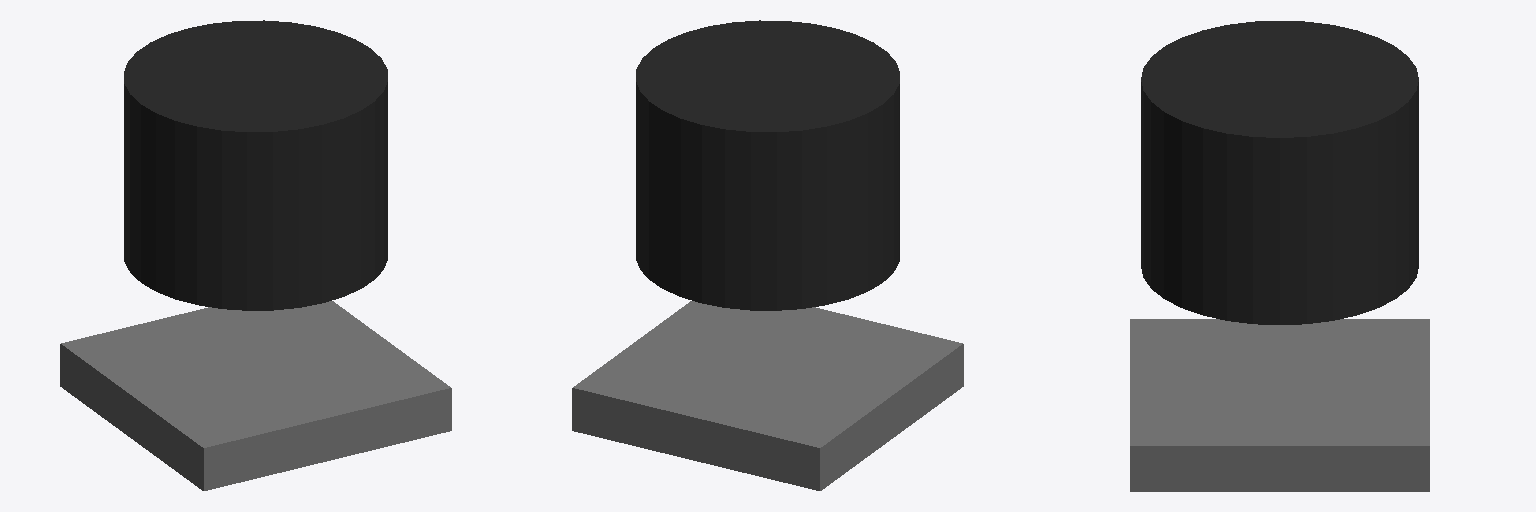
The robot description file, URDF, robot "rplidar_c1":
<?xml version="1.0"?>
<robot name="rplidar_c1">
  <!-- 
    RPlidar C1 URDF Model
    
    Specifications:
    - Dimensions: 55.6 x 55.6 x 41.3 mm
    - Weight: 110g (0.11 kg)
    - Scanning Range: 0.05-12m
    - Scanning Angle: 360°
    - Scanning Frequency: 10Hz
    - Angular Resolution: 0.72°
    - Power: 5V, 230mA
    - Interface: UART/USB
  -->

  <!-- RPlidar Base Link (센서 본체) -->
  <link name="rplidar_c1_base">
    <visual>
      <!-- 원통형 센서 본체 (정면) -->
      <geometry>
        <cylinder radius="0.0278" length="0.0413"/>
      </geometry>
      <origin xyz="0 0 0" rpy="0 0 0"/>
      <material name="black">
        <color rgba="0.2 0.2 0.2 1.0"/>
      </material>
    </visual>
    
    <collision>
      <geometry>
        <cylinder radius="0.0278" length="0.0413"/>
      </geometry>
      <origin xyz="0 0 0" rpy="0 0 0"/>
    </collision>
    
    <inertial>
      <!-- 질량: 110g = 0.11 kg -->
      <mass value="0.11"/>
      <!-- 원통형 관성 모멘트 계산: I = (1/12)*m*(3*r^2 + h^2) for cylinder -->
      <!-- r = 0.0278m, h = 0.0413m -->
      <!-- Ixx = Iyy = (1/12)*0.11*(3*0.0278^2 + 0.0413^2) ≈ 0.0001 kg⋅m² -->
      <!-- Izz = (1/2)*m*r^2 = 0.5*0.11*0.0278^2 ≈ 0.0000425 kg⋅m² -->
      <inertia ixx="0.0001" ixy="0.0" ixz="0.0" 
               iyy="0.0001" iyz="0.0" 
               izz="0.0000425"/>
      <origin xyz="0 0 0" rpy="0 0 0"/>
    </inertial>
  </link>

  <!-- RPlidar 마운팅 프레임 (로봇에 부착할 때 사용) -->
  <link name="rplidar_c1_frame">
    <visual>
      <!-- 마운팅 베이스 (선택사항) -->
      <geometry>
        <box size="0.06 0.06 0.01"/>
      </geometry>
      <origin xyz="0 0 -0.0306" rpy="0 0 0"/>
      <material name="gray">
        <color rgba="0.5 0.5 0.5 1.0"/>
      </material>
    </visual>
    
    <collision>
      <geometry>
        <box size="0.06 0.06 0.01"/>
      </geometry>
      <origin xyz="0 0 -0.0306" rpy="0 0 0"/>
    </collision>
    
    <inertial>
      <mass value="0.0"/>
      <inertia ixx="0.0" ixy="0.0" ixz="0.0" 
               iyy="0.0" iyz="0.0" 
               izz="0.0"/>
      <origin xyz="0 0 0" rpy="0 0 0"/>
    </inertial>
  </link>

  <!-- Fixed Joint: Frame to Base (고정 관절) -->
  <joint name="rplidar_c1_frame_to_base" type="fixed">
    <parent link="rplidar_c1_frame"/>
    <child link="rplidar_c1_base"/>
    <origin xyz="0 0 0.02065" rpy="0 0 0"/>
  </joint>

  <!-- RPlidar Laser Scanning Link (레이저 스캔 방사점) -->
  <link name="rplidar_c1_laser">
    <inertial>
      <mass value="0.0"/>
      <inertia ixx="0.0" ixy="0.0" ixz="0.0" 
               iyy="0.0" iyz="0.0" 
               izz="0.0"/>
    </inertial>
  </link>

  <!-- Fixed Joint: Base to Laser (센서 중심) -->
  <joint name="rplidar_c1_base_to_laser" type="fixed">
    <parent link="rplidar_c1_base"/>
    <child link="rplidar_c1_laser"/>
    <origin xyz="0 0 0" rpy="0 0 0"/>
  </joint>

  <!-- Rotation Link (회전축) -->
  <link name="rplidar_c1_rotating">
    <inertial>
      <mass value="0.0"/>
      <inertia ixx="0.0" ixy="0.0" ixz="0.0" 
               iyy="0.0" iyz="0.0" 
               izz="0.0"/>
    </inertial>
  </link>

  <!-- Rotating Joint (회전 관절) - 시뮬레이션 시에만 사용 -->
  <joint name="rplidar_c1_rotation" type="continuous">
    <parent link="rplidar_c1_base"/>
    <child link="rplidar_c1_rotating"/>
    <origin xyz="0 0 0" rpy="0 0 0"/>
    <axis xyz="0 0 1"/>
    <!-- 10Hz = 600 RPM -->
  </joint>

  <!-- Material Definitions -->
  <material name="black">
    <color rgba="0.2 0.2 0.2 1.0"/>
  </material>
  
  <material name="gray">
    <color rgba="0.5 0.5 0.5 1.0"/>
  </material>

</robot>

--- Render facts (derived) ---
3 views of the same robot in one strip: view 1: azimuth 30°, elevation 25°; view 2: azimuth 150°, elevation 25°; view 3: azimuth 270°, elevation 25° (orthographic).
Robot: rplidar_c1 — 4 links, 3 joints (1 continuous, 2 fixed); root link rplidar_c1_frame; default pose: every joint at zero.
Links seen in each view (by area): view 1: rplidar_c1_base, rplidar_c1_frame; view 2: rplidar_c1_base, rplidar_c1_frame; view 3: rplidar_c1_base, rplidar_c1_frame.
Link boxes in pixels (x1=…): rplidar_c1_base: x1=124, y1=20, x2=387, y2=310; rplidar_c1_frame: x1=60, y1=301, x2=451, y2=490; rplidar_c1_base: x1=636, y1=20, x2=899, y2=310; rplidar_c1_frame: x1=572, y1=301, x2=963, y2=490; rplidar_c1_base: x1=1141, y1=21, x2=1418, y2=324; rplidar_c1_frame: x1=1130, y1=319, x2=1429, y2=491.
Bounding box of the posed robot: 0.06 × 0.06 × 0.0769 m (x, y, z).
Geometry: primitives only (box / cylinder / sphere), no mesh files.
